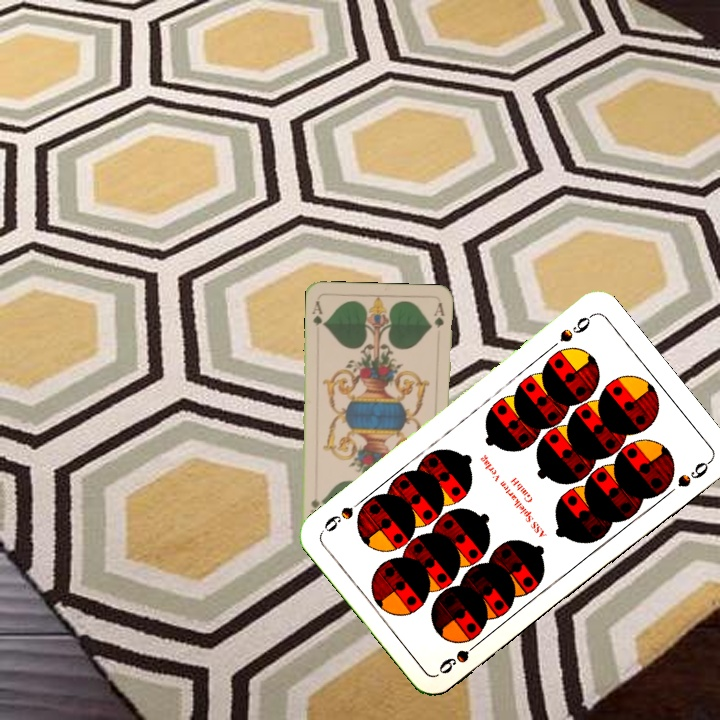GA: (308, 297, 327, 329)
S9: (434, 635, 485, 677), (555, 310, 596, 345)
